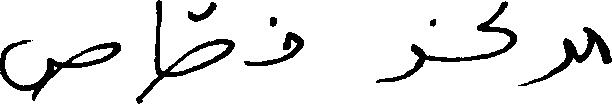X: (0, 35, 118, 103), (167, 0, 232, 81), (378, 14, 435, 87), (246, 12, 303, 70), (522, 33, 572, 90), (479, 0, 515, 64), (588, 23, 611, 68), (155, 0, 159, 103)
